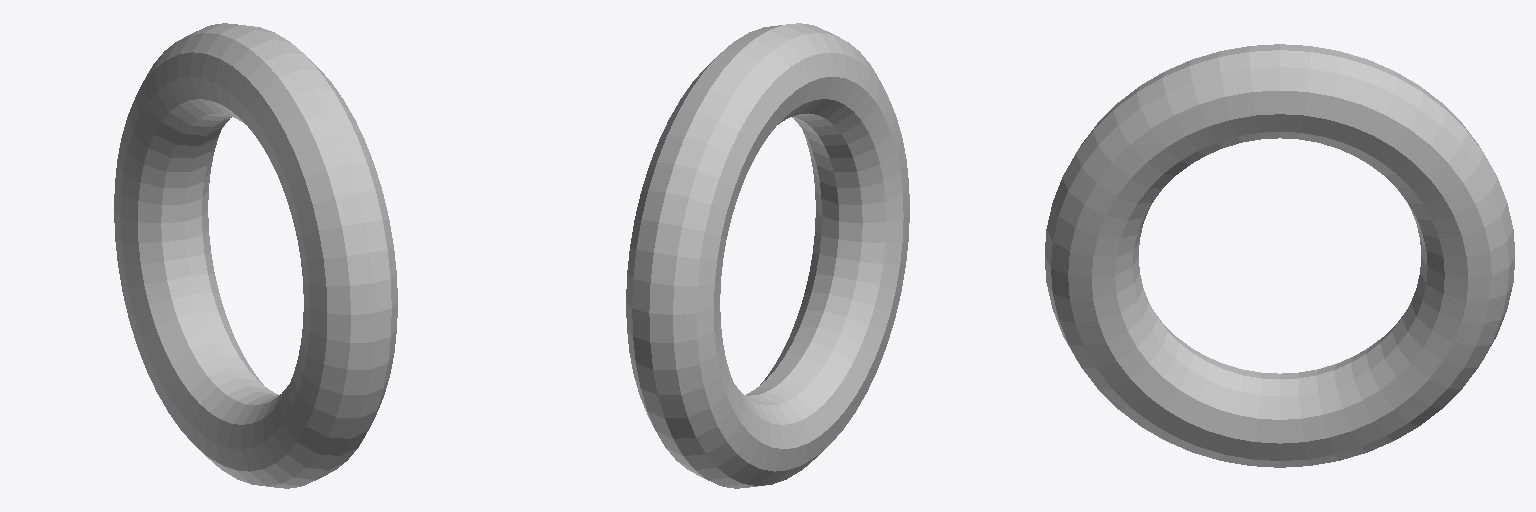
File: trs.obj
3 renders of one model, left to right at view 1: azimuth 30°, elevation 25°; view 2: azimuth 150°, elevation 25°; view 3: azimuth 270°, elevation 25°, orthographic.
Visible parts, largest first — view 1: Torus; view 2: Torus; view 3: Torus.
Part boxes in pixels (x1,y1,x2,y2): Torus: (114,23,397,488); Torus: (626,23,909,488); Torus: (1045,44,1514,467).
Bounding box in the file's own units: 0.0267 × 0.1041 × 0.1044.